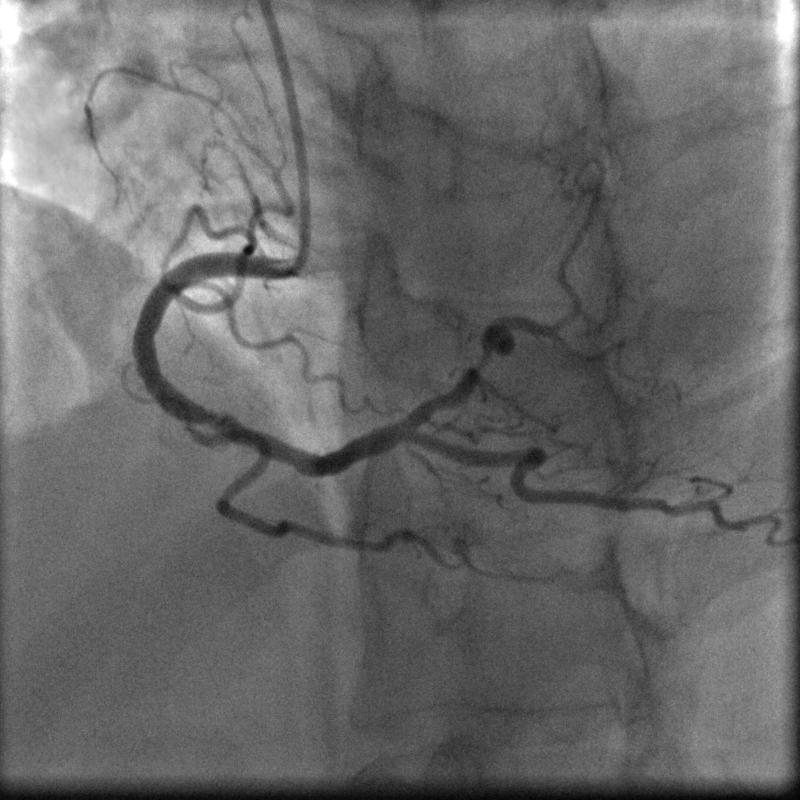Stenosis: (461, 335, 492, 377)
